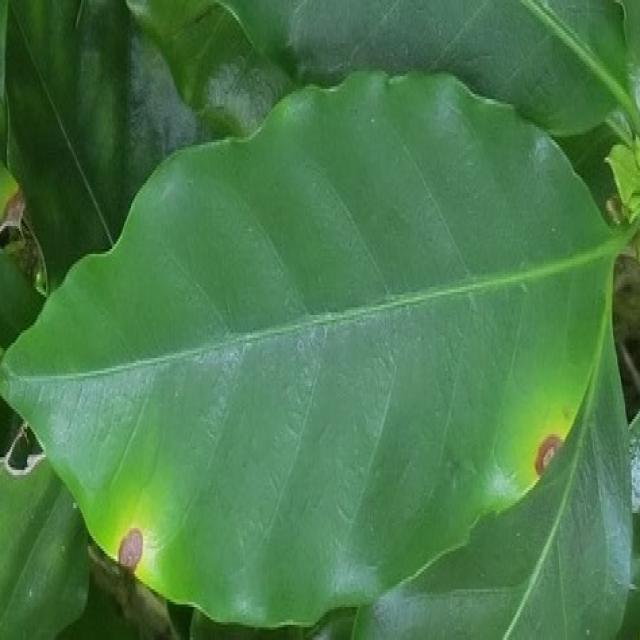Enfermedad-Mancha-de-hierro: (0, 71, 628, 630)
